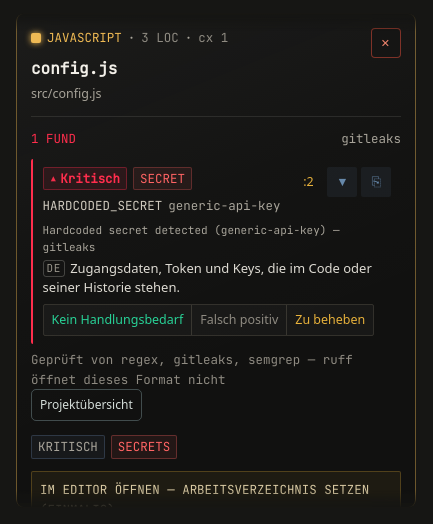
Scenario: ein Urteil, das der Speicher nicht annimmt, sagt es › answers the refused verdict where the verdict was clicked
Click the button "Kein Handlungsbedarf".
click(118, 320)  # box x1=44 y1=304 x2=192 y2=334
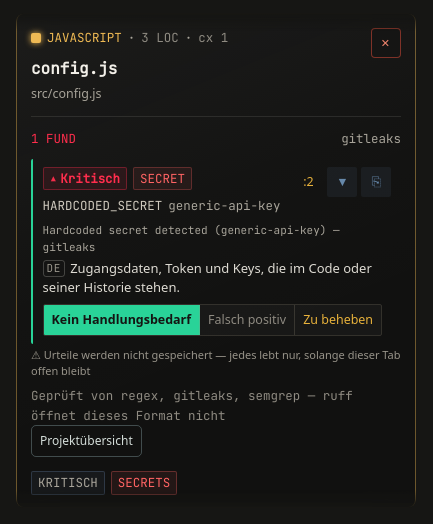
Expected: the message is shown, x1=31 y1=346 x2=401 y2=380
Expected: the text "Urteile werden nicht gespeichert — jedes lebt nur, solange dieser Tab offen bleibt" is shown, x1=31 y1=346 x2=400 y2=378
